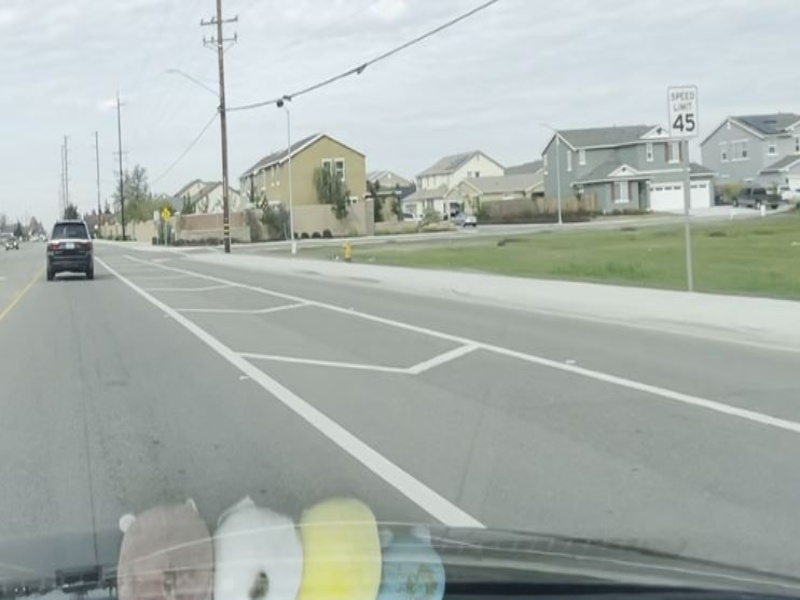merge sign: (157, 207, 173, 223)
